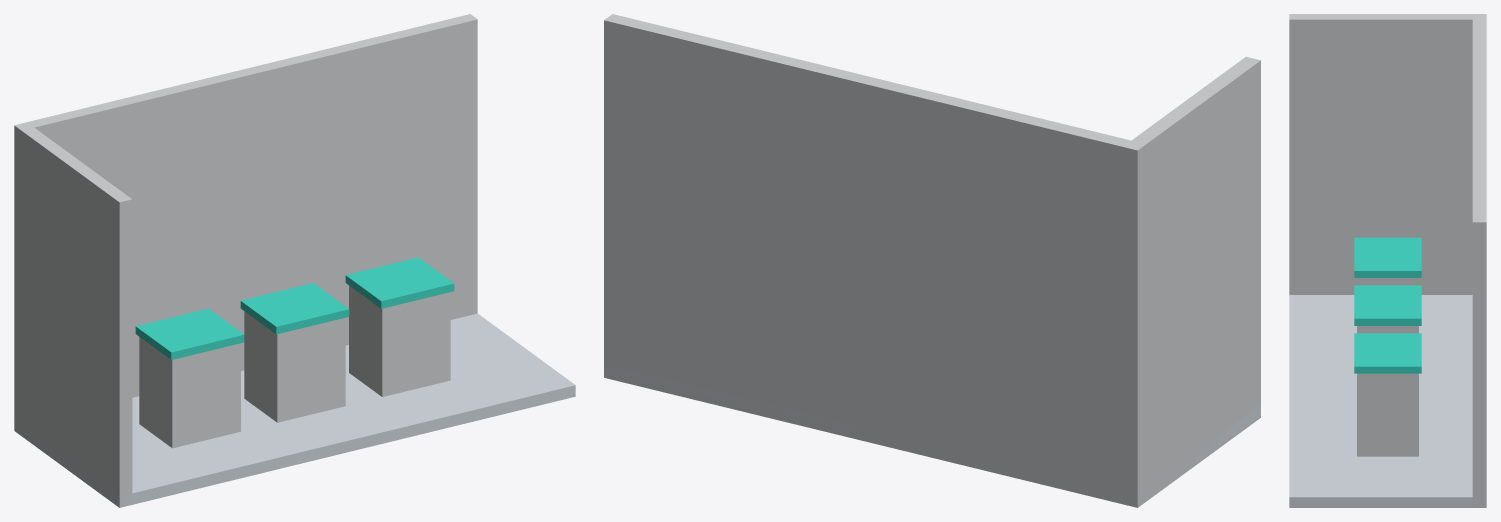
The picture shows the model from 3 angles, left to right: view 1: azimuth 30°, elevation 25°; view 2: azimuth 150°, elevation 25°; view 3: azimuth 270°, elevation 25°; orthographic projection. The views are drawn at different scales.
Visible parts, largest first — view 1: Exhibition Booth Concept; view 2: Exhibition Booth Concept; view 3: Exhibition Booth Concept.
Part boxes in pixels (box(x1,y1,x2,y2)): Exhibition Booth Concept: box(14, 14, 575, 507); Exhibition Booth Concept: box(604, 14, 1260, 507); Exhibition Booth Concept: box(1289, 14, 1486, 507).
Bounding box in the file's own units: 5 × 3.2 × 2.
